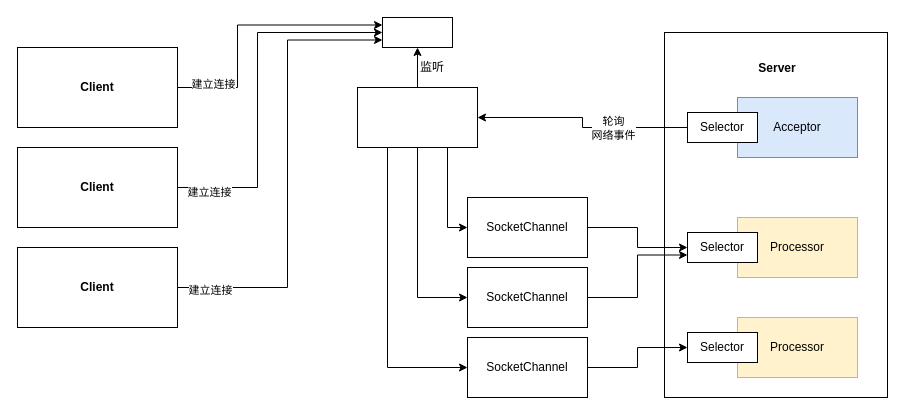
The diagram is 905 pixels wide and 415 high, and some of its shapes have lost their labels. The shapes that lost their labels are listed below. From the top down, each one's centre as x and y in pixels, then its label:
At point (417, 32): "端口号".
At point (417, 117): "ServerSocketChannel".
